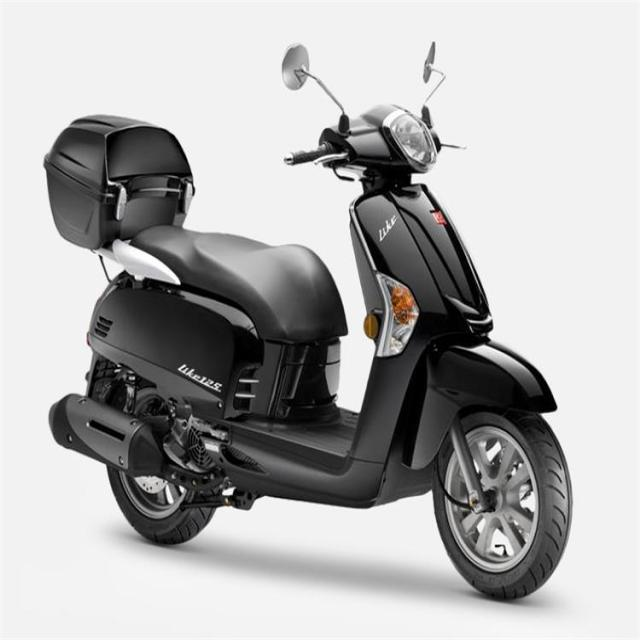Motorcycle: (44, 105, 572, 599)
